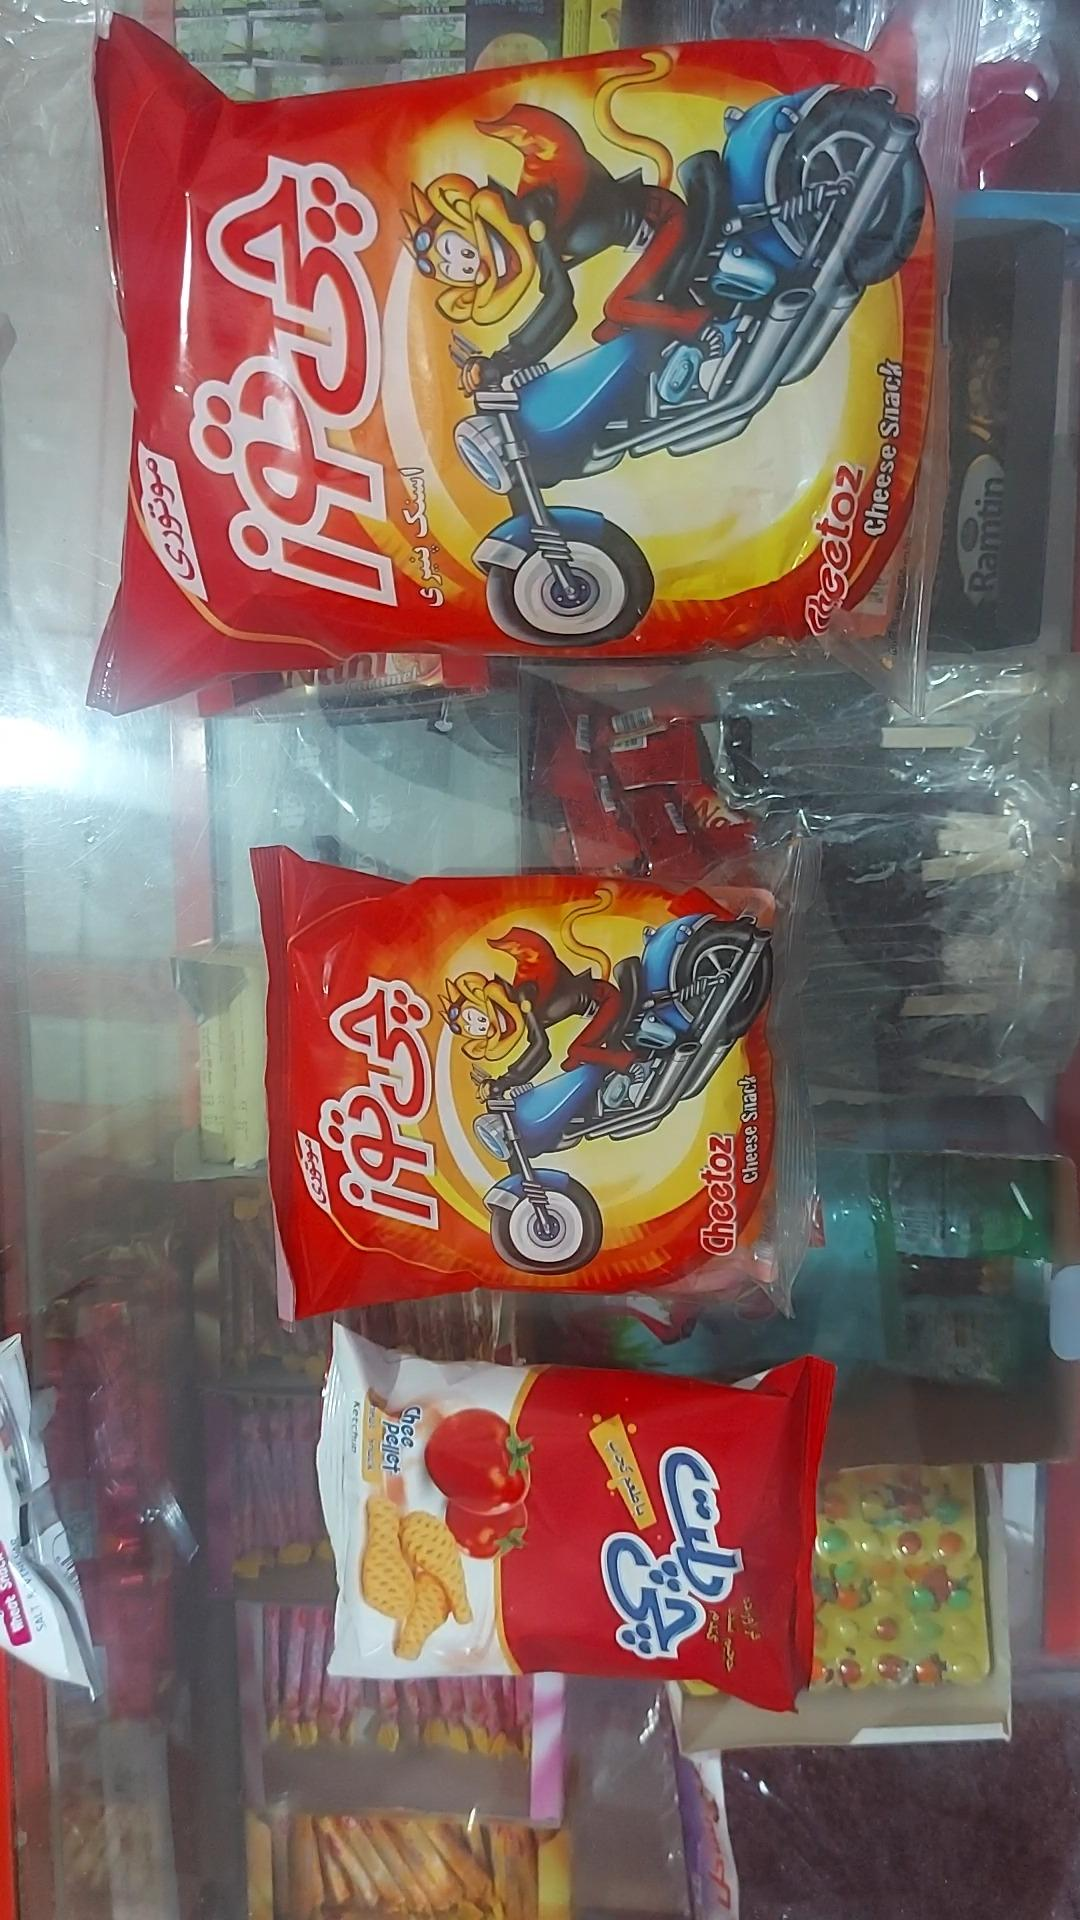Chee pellet ketchup: (326, 1324, 844, 1713)
Cheetoz snack 30g: (253, 839, 803, 1311)
Cheetoz snack 90g: (94, 13, 982, 705)
